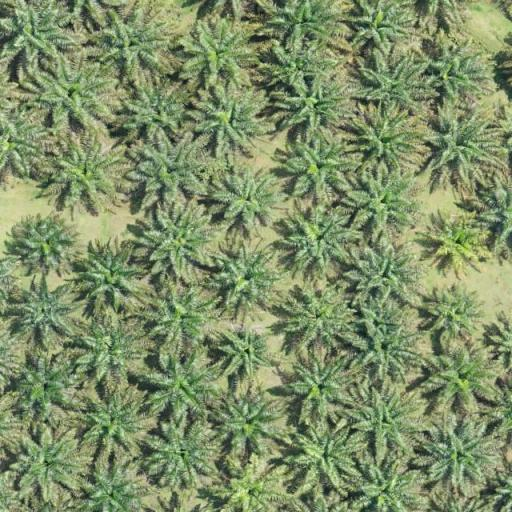Ganoderma: (439, 222, 478, 262)
